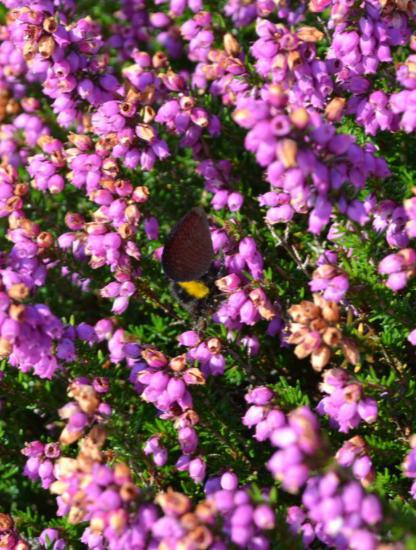Salak: (150, 204, 233, 287)
